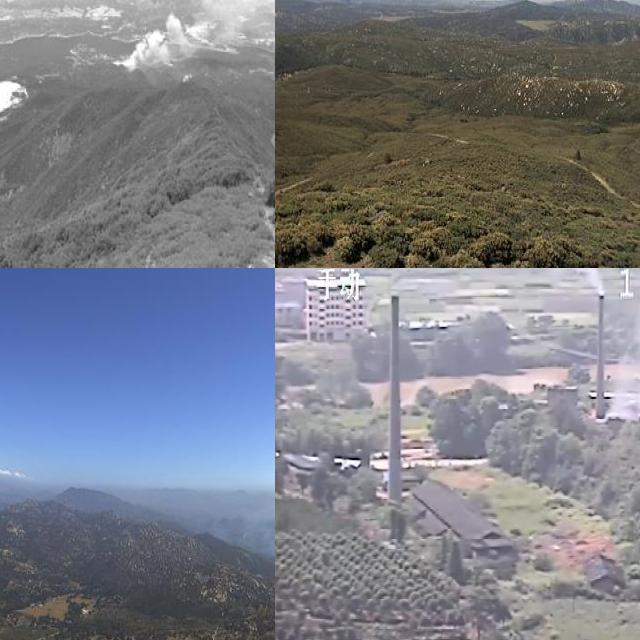smoke: (109, 0, 275, 82), (197, 487, 275, 568), (606, 268, 640, 420), (528, 268, 604, 296), (292, 0, 361, 14)
